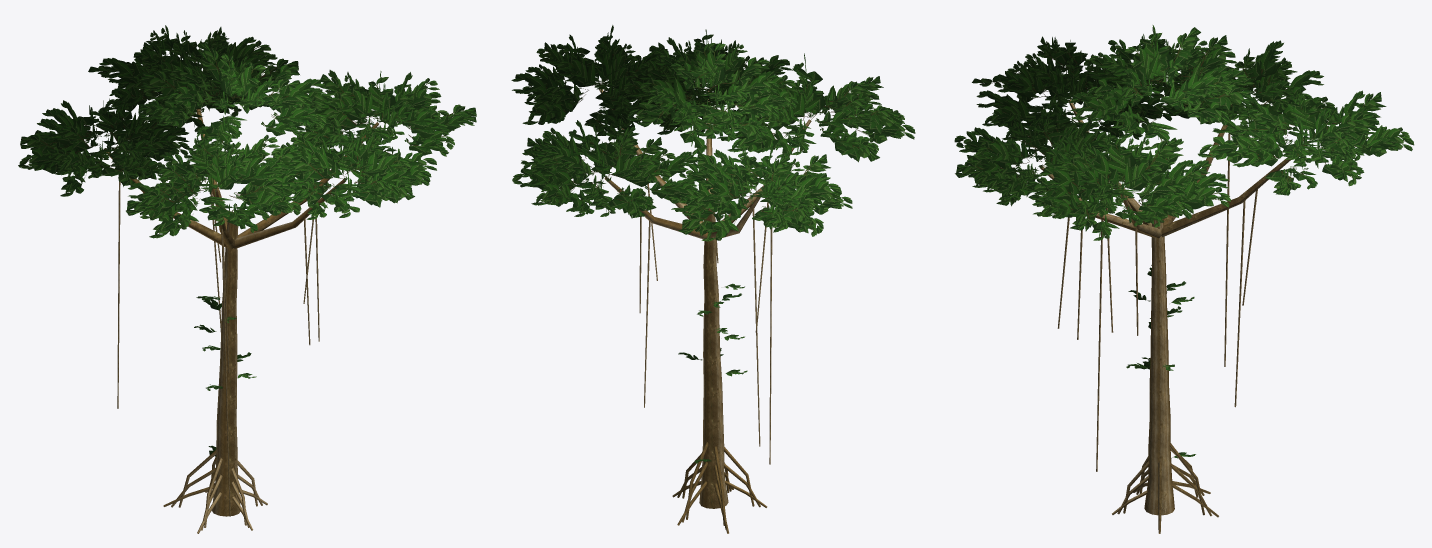
File: SM_Jungle_01.gltf
3 renders of one model, left to right at view 1: azimuth 30°, elevation 25°; view 2: azimuth 150°, elevation 25°; view 3: azimuth 270°, elevation 25°, orthographic. The views are drawn at different scales.
Parts seen in each view (by area): view 1: SM_Jungle_01; view 2: SM_Jungle_01; view 3: SM_Jungle_01.
Boxes of the visible parts, x1,y1,x2,y2 form: SM_Jungle_01: (18,25,476,533); SM_Jungle_01: (511,25,915,533); SM_Jungle_01: (954,25,1414,533).
Size of the model in its own units: 15.84 by 18.75 by 16.35.
Materials: 2 (2 with a texture image).
